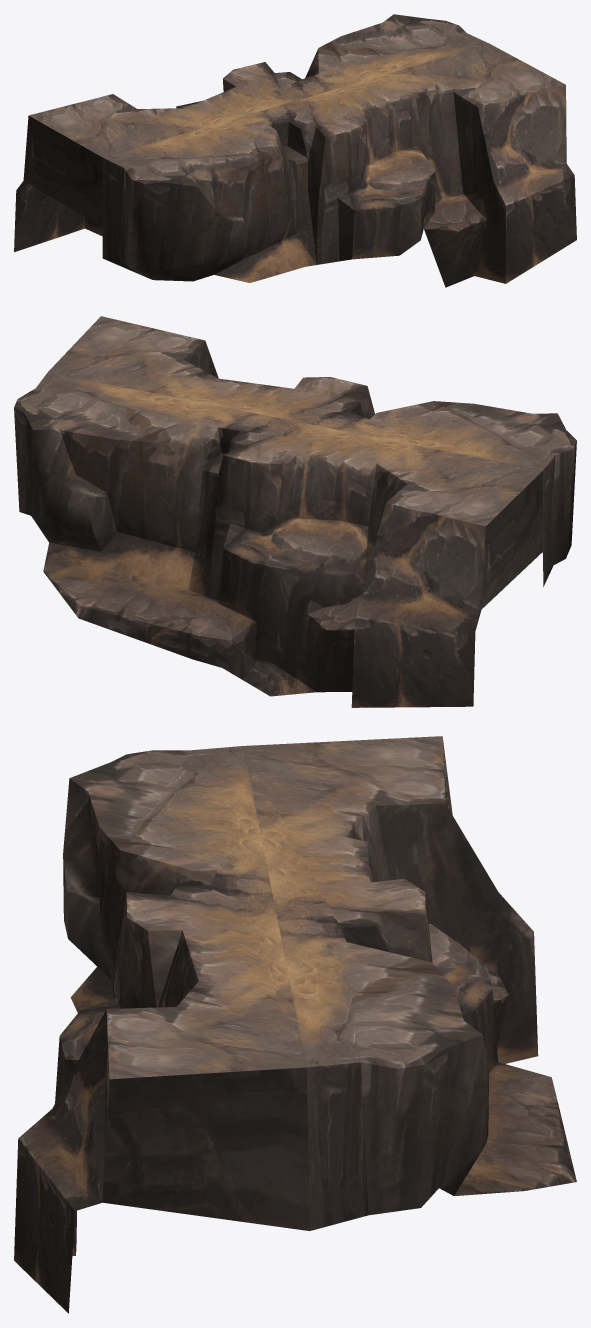
Rendered from xsm_shitou_17.FBX.
3 renders of one model, top to bottom at view 1: azimuth 30°, elevation 25°; view 2: azimuth 150°, elevation 25°; view 3: azimuth 270°, elevation 25°, orthographic. The views are drawn at different scales.
Parts seen in each view (by area): view 1: xsm_shitou_17; view 2: xsm_shitou_17; view 3: xsm_shitou_17.
Part boxes in pixels (bbox=[...]): xsm_shitou_17: bbox=[14, 14, 576, 287]; xsm_shitou_17: bbox=[14, 316, 576, 707]; xsm_shitou_17: bbox=[14, 736, 576, 1313].
Bounding box in the file's own units: 96.62 × 35.4 × 66.68.
